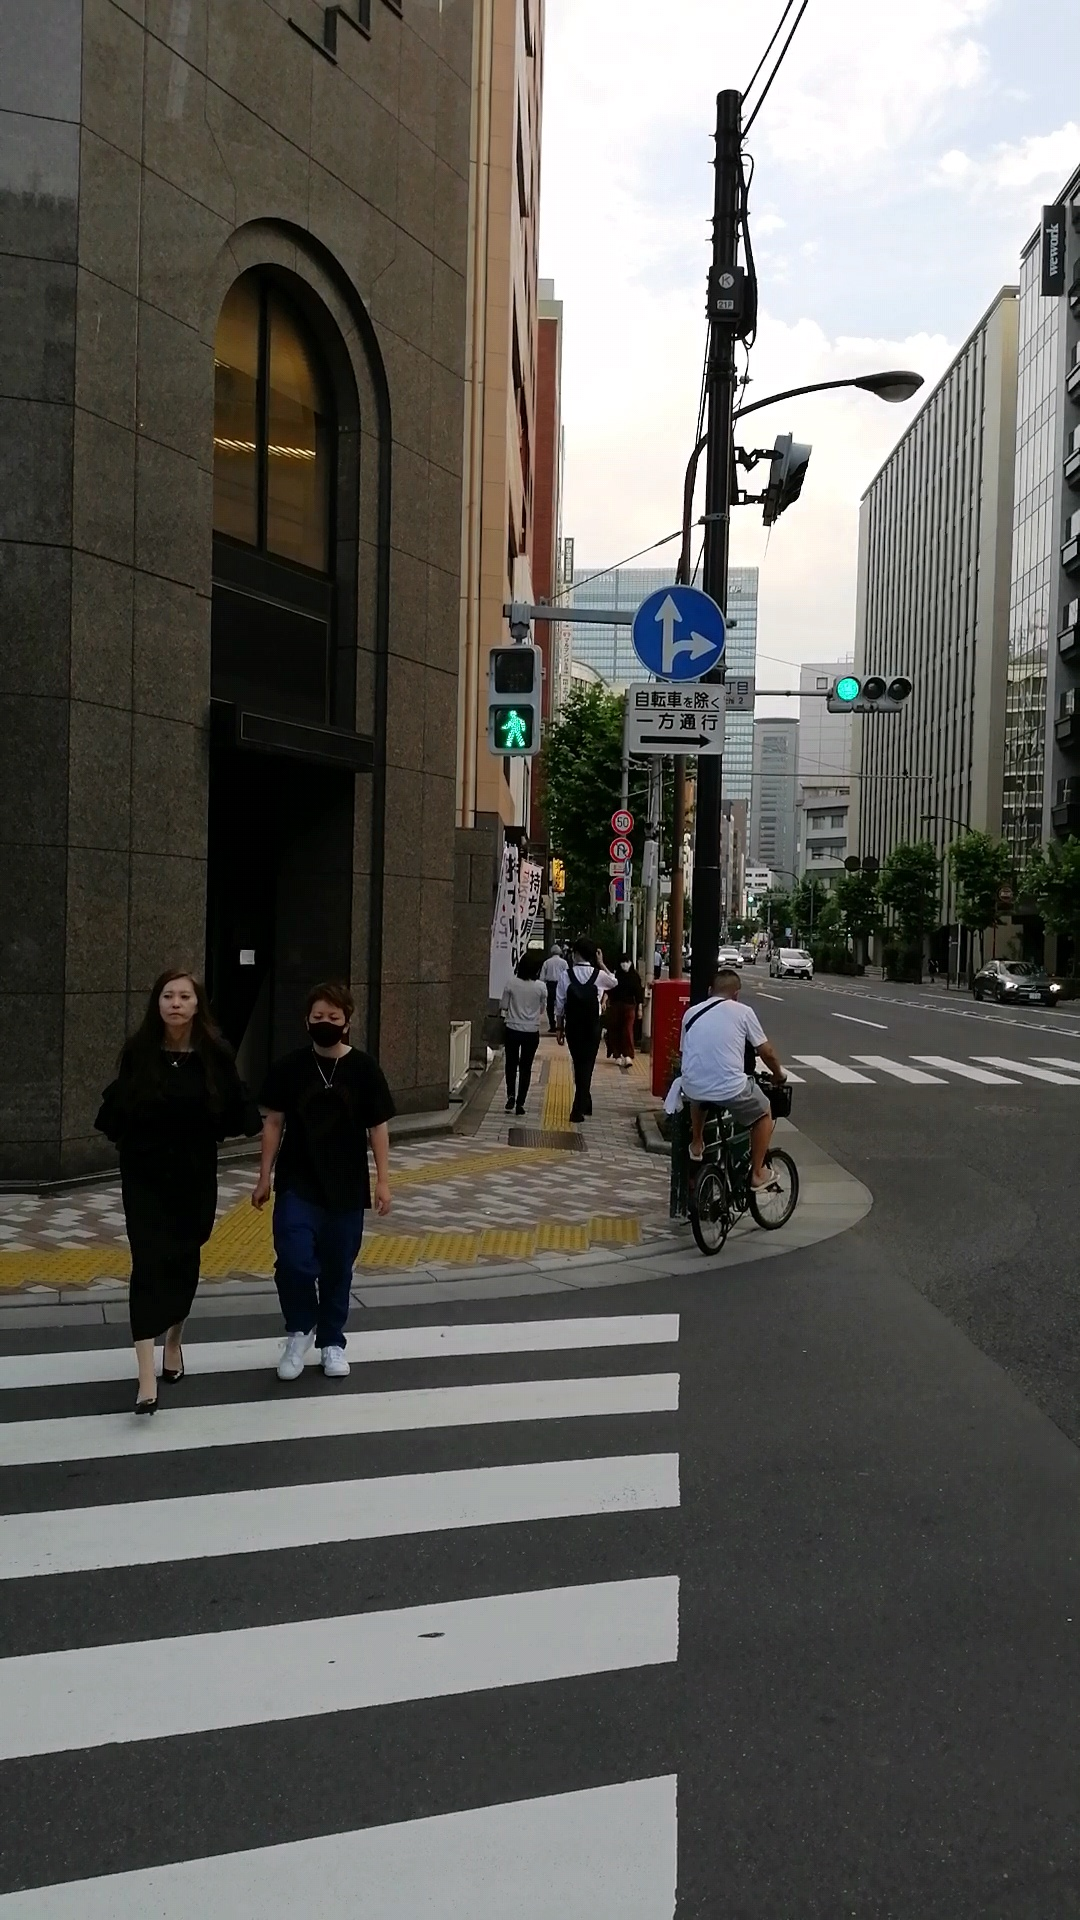green: (484, 644, 545, 756)
